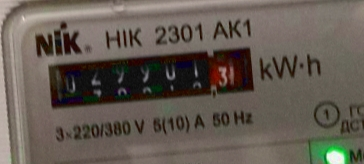0: (162, 57, 179, 83), (62, 72, 79, 95)
1: (189, 55, 203, 80)
2: (88, 65, 105, 88)
3: (215, 64, 232, 89)
9: (139, 61, 153, 85), (114, 63, 127, 85)
screen: (40, 39, 265, 120)
